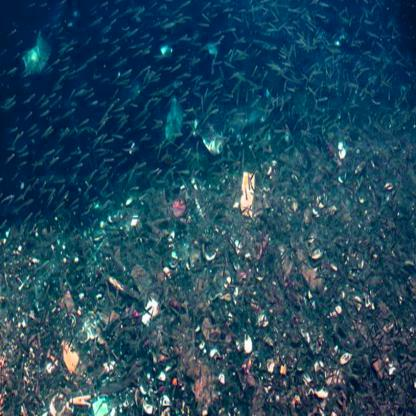Metal: (238, 168, 260, 220), (200, 112, 226, 155)
Trash: (10, 32, 54, 80), (163, 89, 184, 140), (78, 304, 105, 342), (160, 40, 177, 57)
